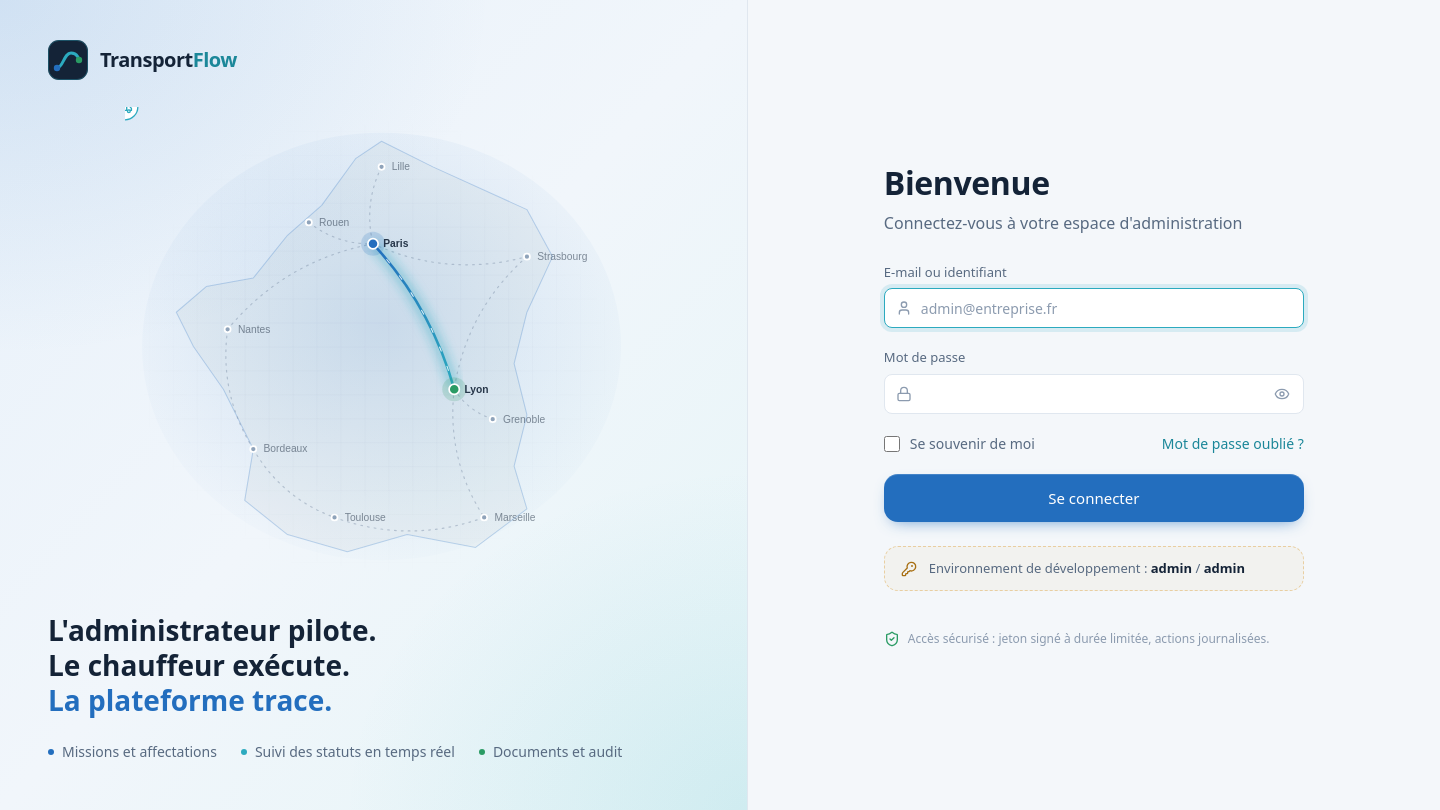
Test: Connexion › affiche le message de l’API en cas d’identifiants incorrects
Type "admin" into the field labelled "E-mail ou identifiant".
click(1094, 308); type("admin")  # box [884,288,1304,328]
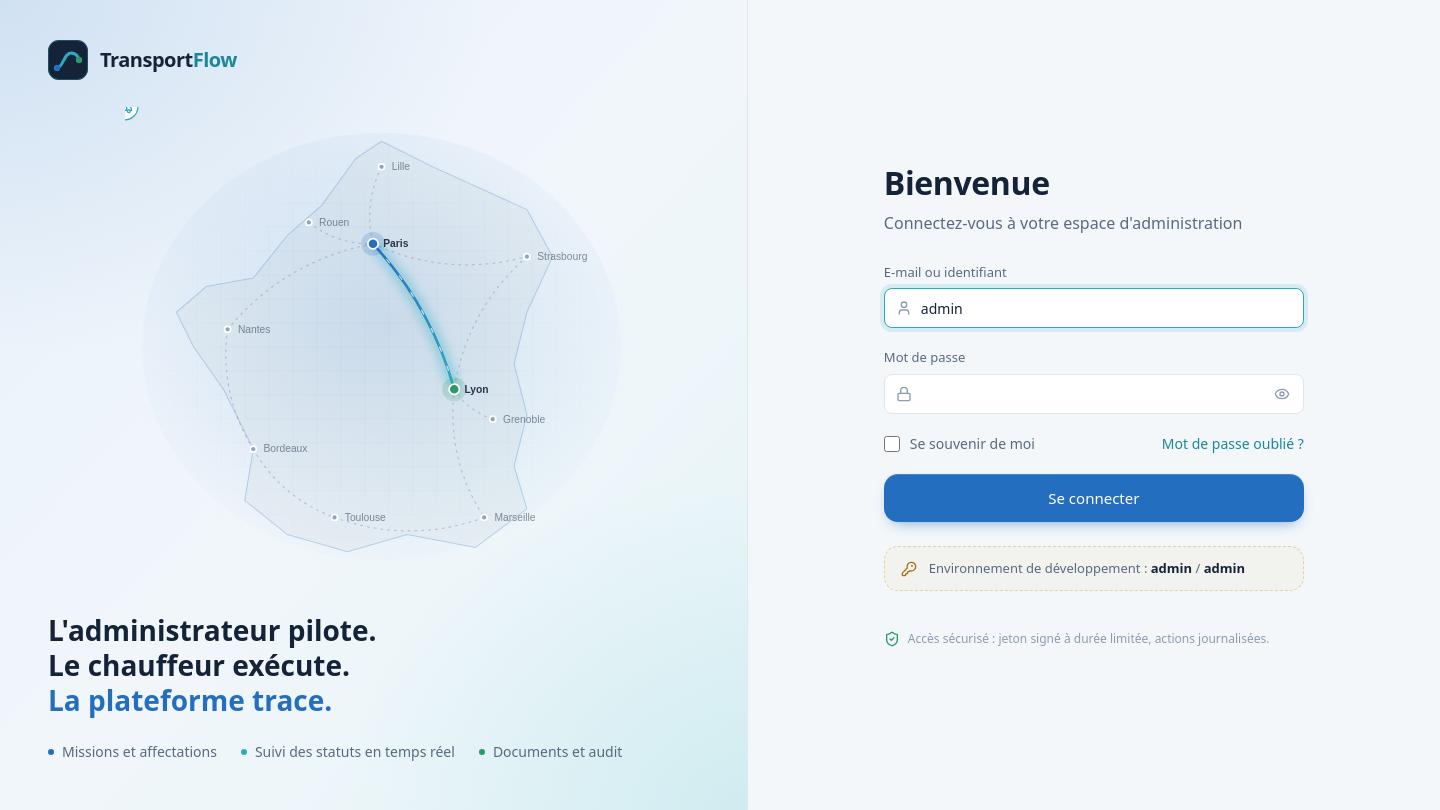
Type "faux" into the password field labelled "Mot de passe".
click(1094, 394); type("faux")  # box [884,374,1304,414]
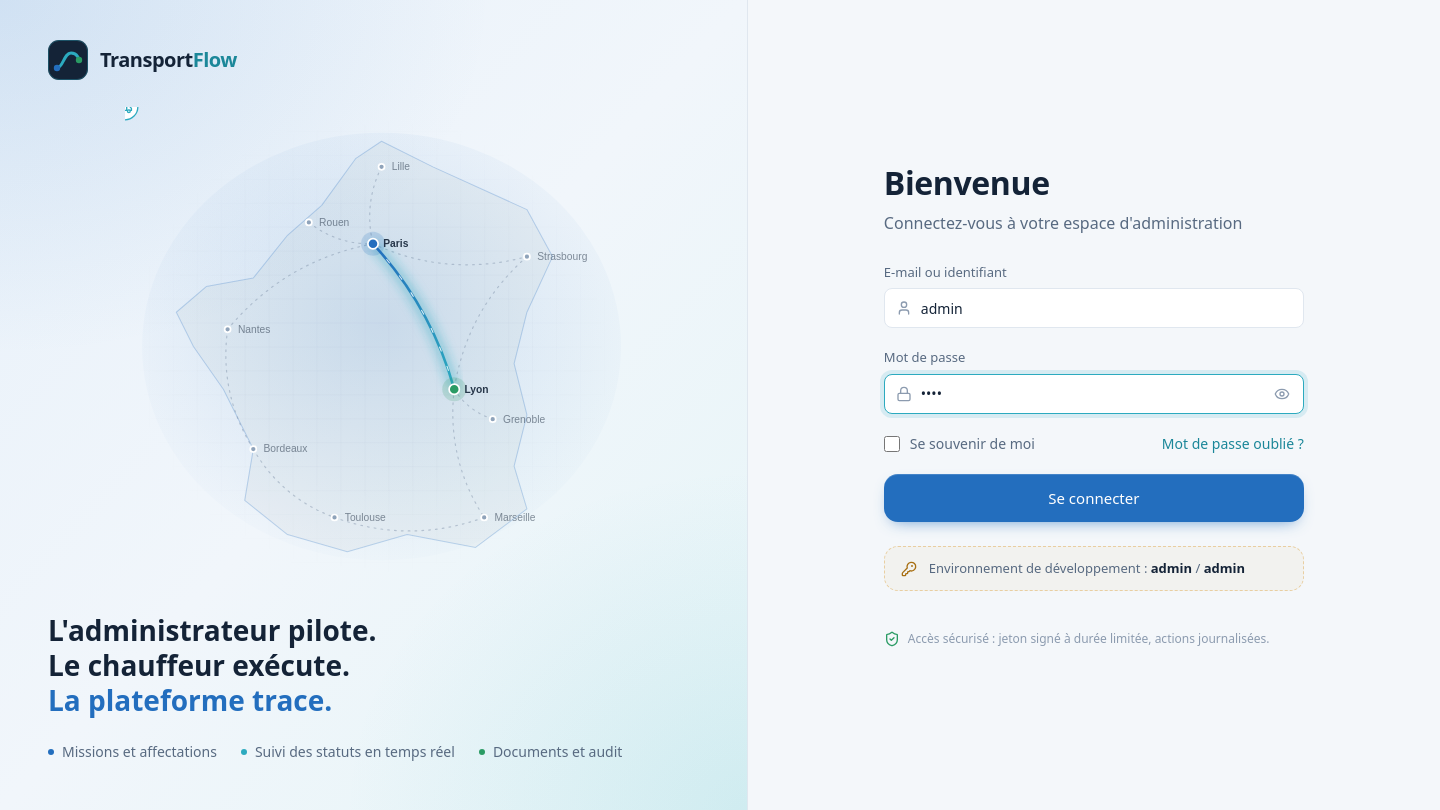
Click the button "Se connecter".
click(1094, 498)  # box [884,474,1304,522]
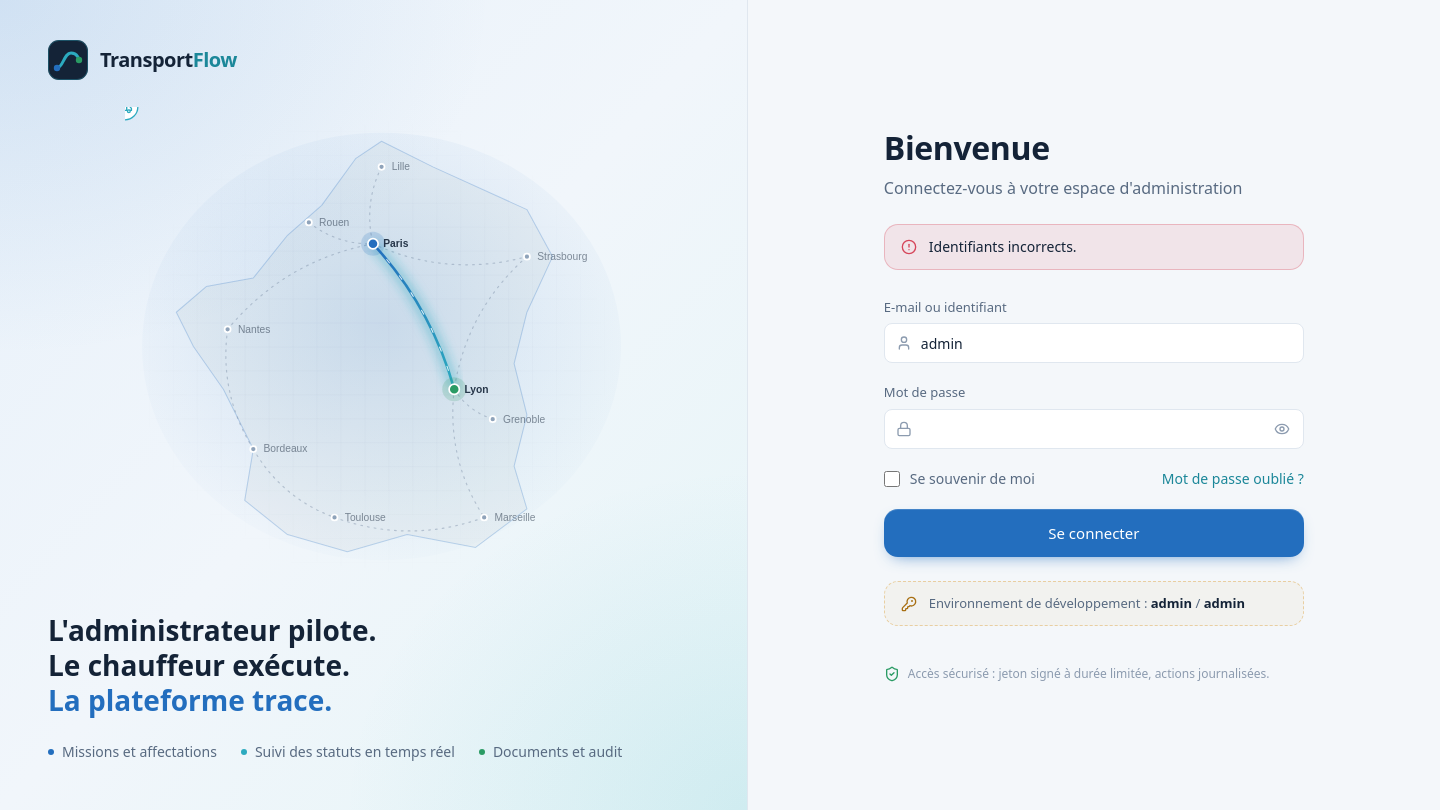
Now the message reads "Identifiants incorrects.", box [929,237,1077,256]
